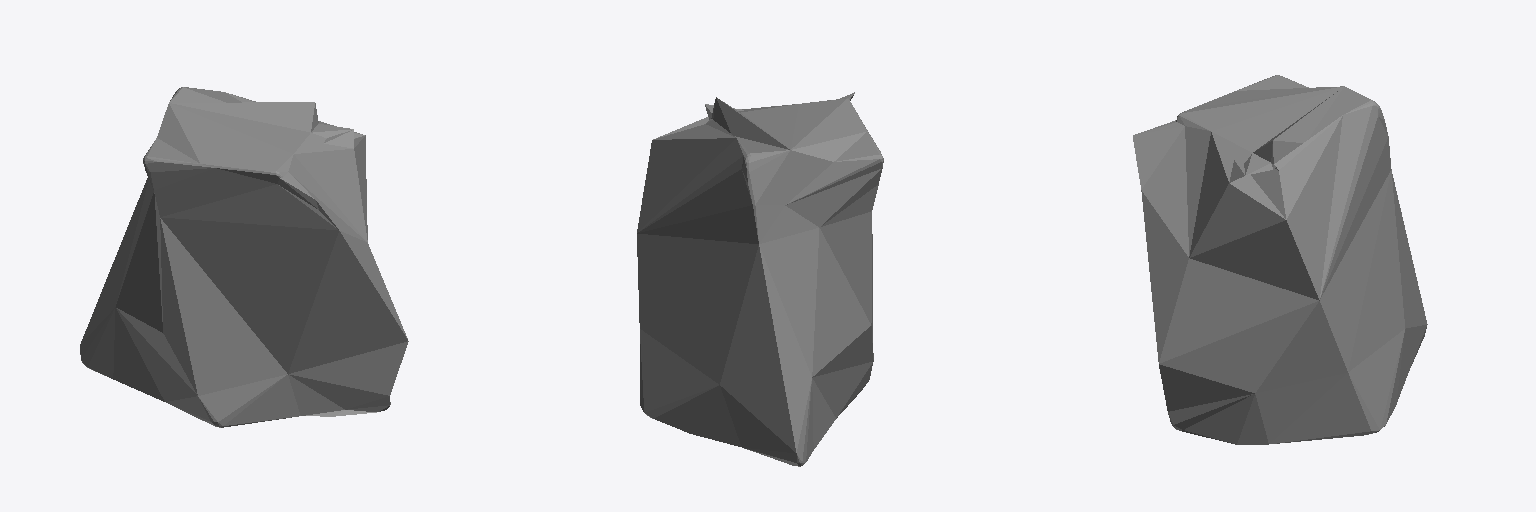
The model's file is Rock1.obj.
3 views of the same model, side by side, from view 1: azimuth 30°, elevation 25°; view 2: azimuth 150°, elevation 25°; view 3: azimuth 270°, elevation 25° (orthographic).
Parts seen in each view (by area): view 1: Box001; view 2: Box001; view 3: Box001.
Part boxes in pixels (x1,y1,x2,y2): Box001: (80, 87, 408, 427); Box001: (637, 92, 883, 466); Box001: (1133, 75, 1427, 444).
Size of the model in its own units: 99.53 by 120 by 112.